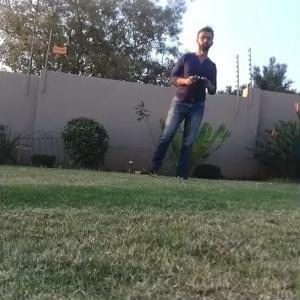follow: (143, 22, 218, 183)
